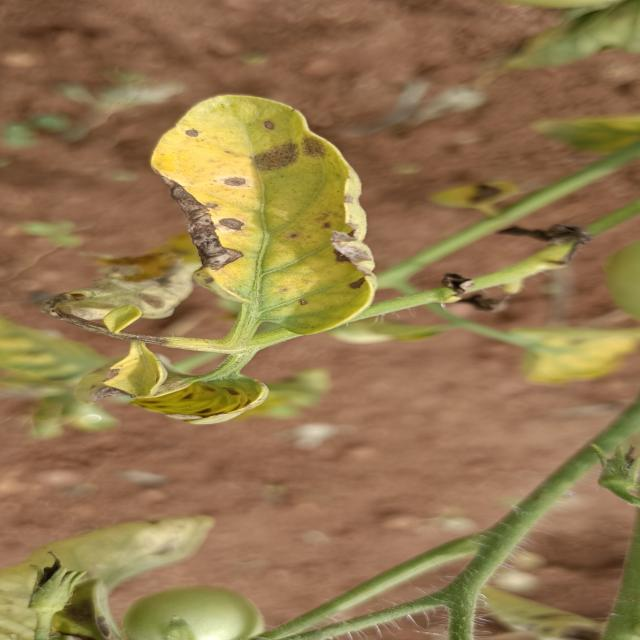tomato_early blight: (154, 86, 389, 338), (42, 232, 206, 338), (140, 366, 272, 428), (495, 325, 640, 379), (440, 170, 520, 214), (105, 352, 169, 396)
